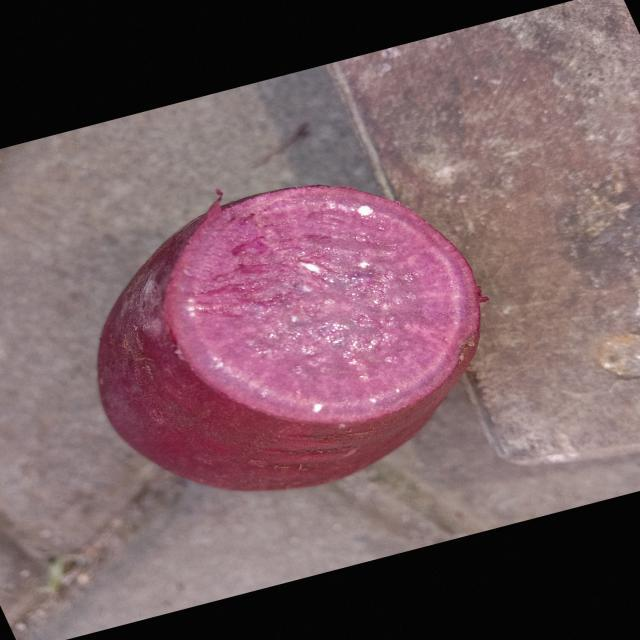Healthy Sweet Potato: (163, 186, 482, 424)
